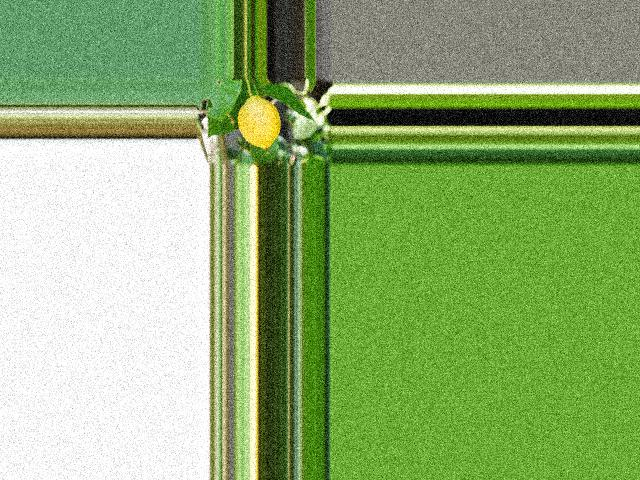lemon: (237, 94, 285, 155)
